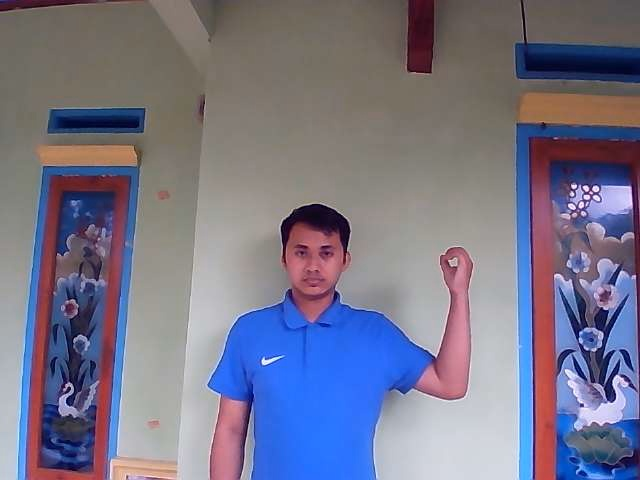O: (438, 246, 474, 293)
